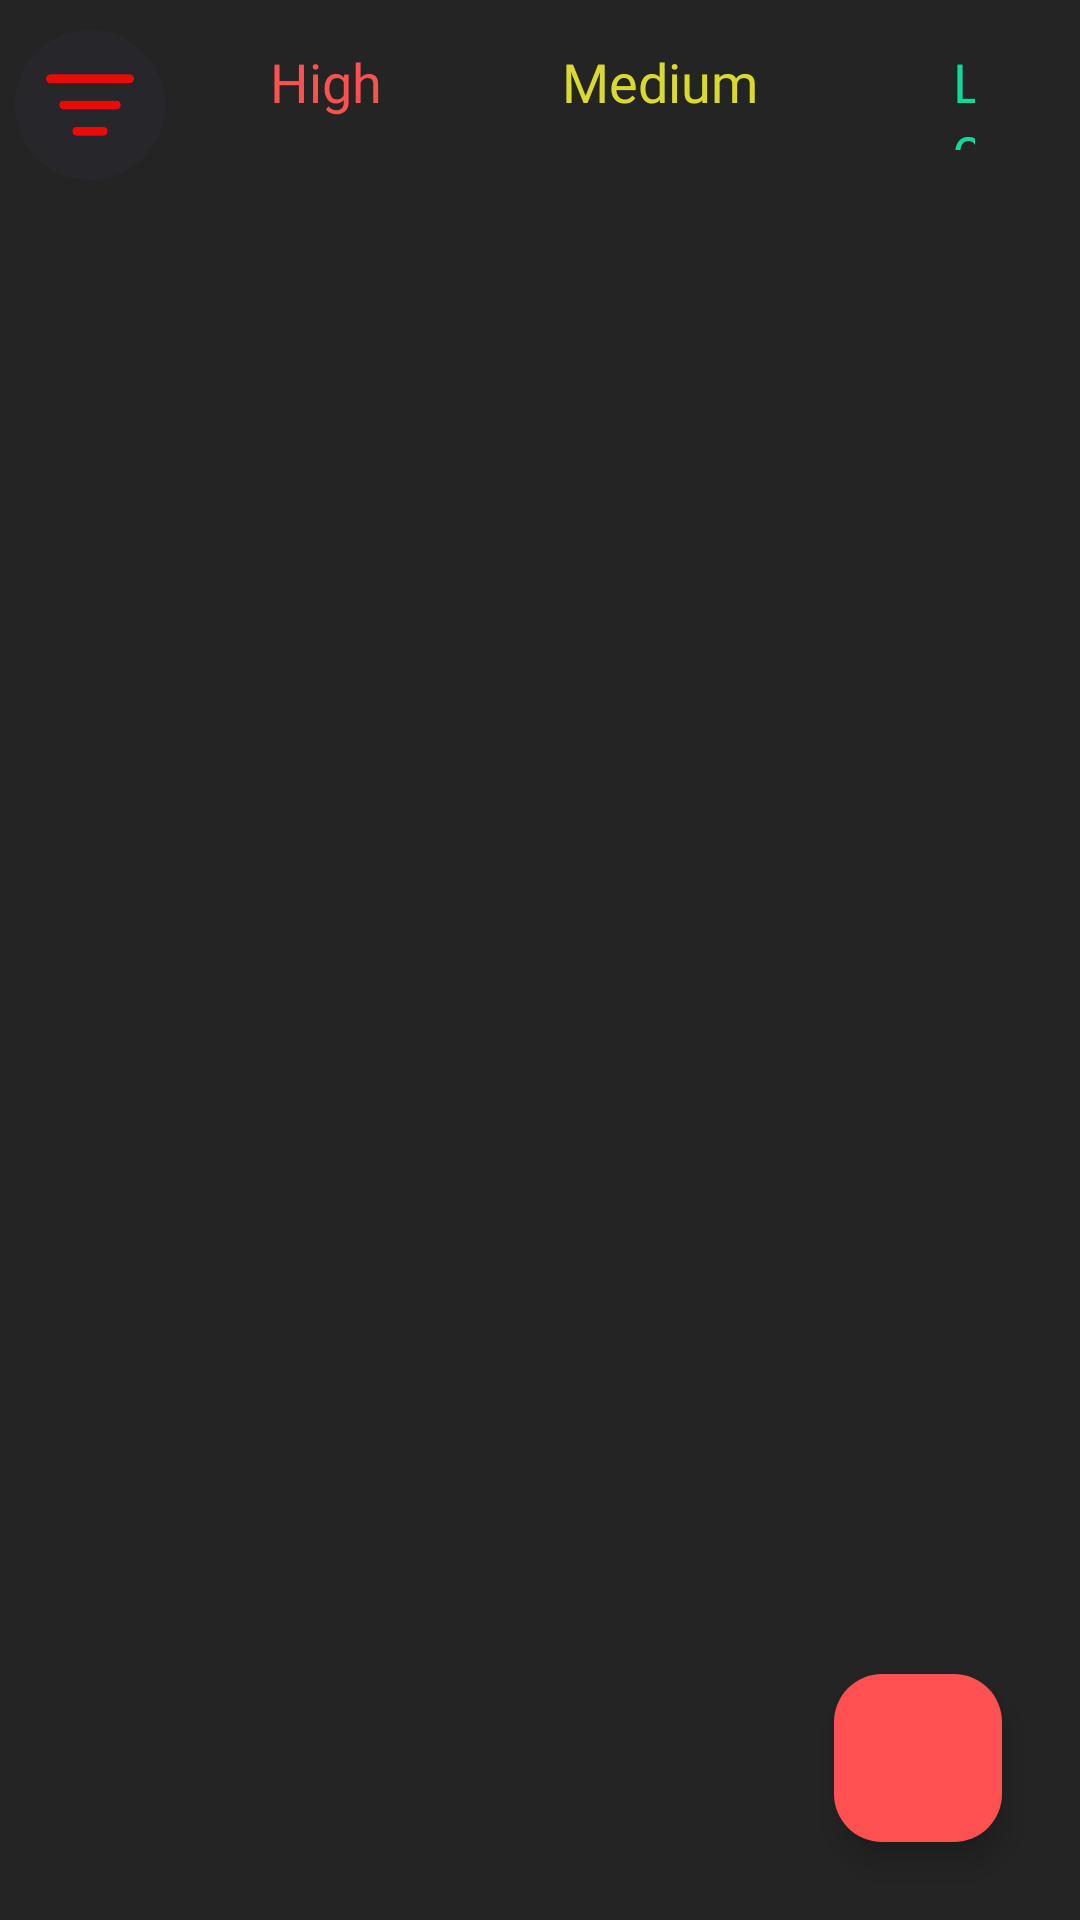

Screen size 1080×1920. Icon name, then its center in pixels as (x=x, y=y):
filter: (x=90, y=105)
